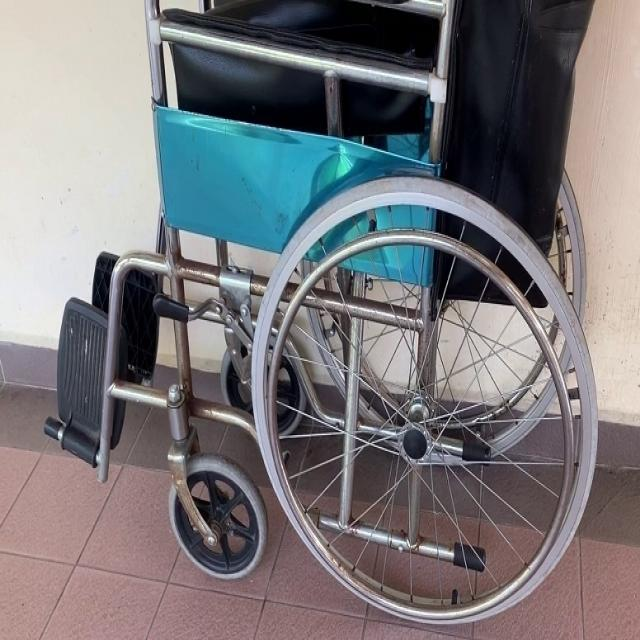wheelchair: (39, 0, 604, 629)
